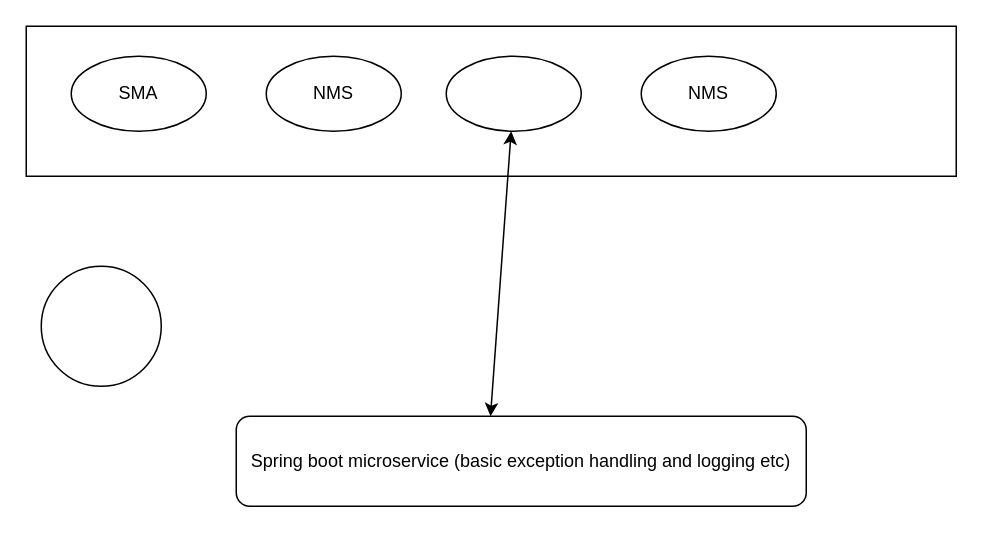
This 983x533 diagram has some shape labels left out. Here are the shapes that lost their labels. From the top down, the box of each, then its label:
(445, 55, 581, 131): Kafka Broker (Docker Image)
(40, 265, 161, 386): KADECK
